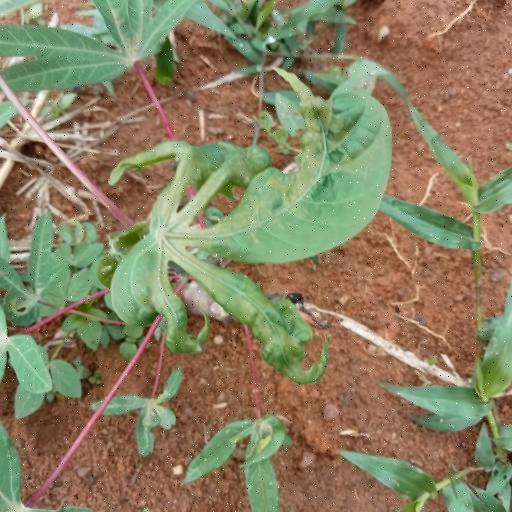Cassava_Mosaic: (107, 98, 388, 370)
